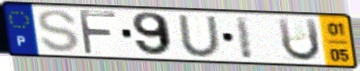9: (131, 11, 176, 59)
F: (76, 8, 119, 56)
I: (233, 15, 255, 61)
S: (36, 8, 82, 54)
U: (275, 16, 323, 63), (175, 14, 224, 59)
